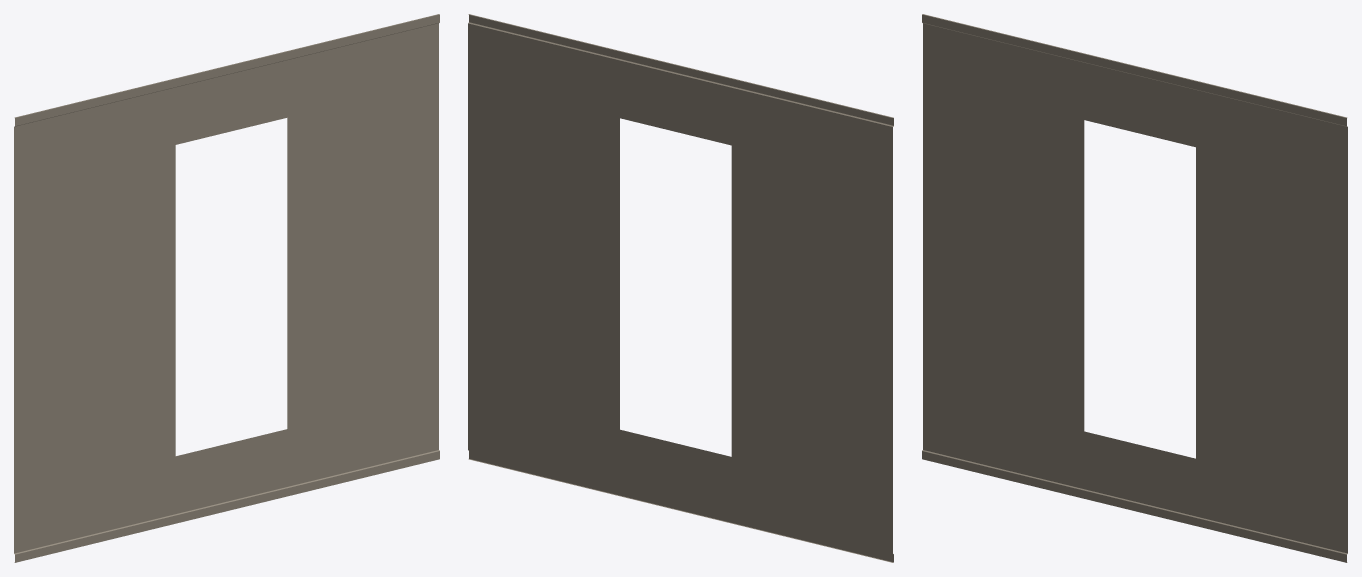
The model's file is Wall_5x5_SingleWindow.fbx.
The picture shows the model from 3 angles, left to right: view 1: azimuth 30°, elevation 25°; view 2: azimuth 150°, elevation 25°; view 3: azimuth 330°, elevation 25°; orthographic projection.
Parts seen in each view (by area): view 1: Wall_5x5_SingleWindow; view 2: Wall_5x5_SingleWindow; view 3: Wall_5x5_SingleWindow.
Boxes of the visible parts, bbox=[...] form: Wall_5x5_SingleWindow: bbox=[14, 14, 439, 562]; Wall_5x5_SingleWindow: bbox=[468, 14, 893, 562]; Wall_5x5_SingleWindow: bbox=[922, 14, 1347, 562].
Bounding box in the file's own units: 5 × 5 × 0.015.
